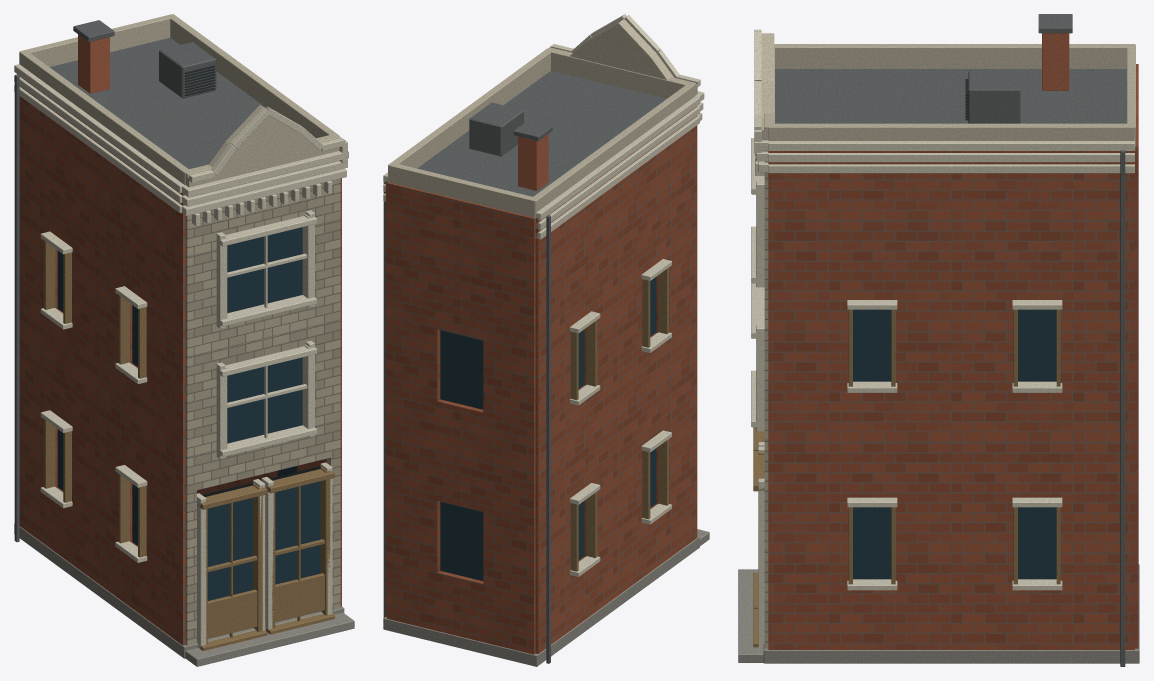
Rendered from RUNDWN11_lod1.glb.
3 views of the same model, side by side, from view 1: azimuth 30°, elevation 25°; view 2: azimuth 150°, elevation 25°; view 3: azimuth 270°, elevation 25° (orthographic). The views are drawn at different scales.
Parts seen in each view (by area): view 1: RUNDWN11_LOD1; view 2: RUNDWN11_LOD1; view 3: RUNDWN11_LOD1.
Boxes of the visible parts, left/top/right/bottom form: RUNDWN11_LOD1: left=14, top=14, right=354, bottom=666; RUNDWN11_LOD1: left=383, top=14, right=709, bottom=666; RUNDWN11_LOD1: left=738, top=14, right=1139, bottom=666.
Bounding box in the file's own units: 3.71 × 10.64 × 6.57.
Materials: 11 (9 with a texture image).
